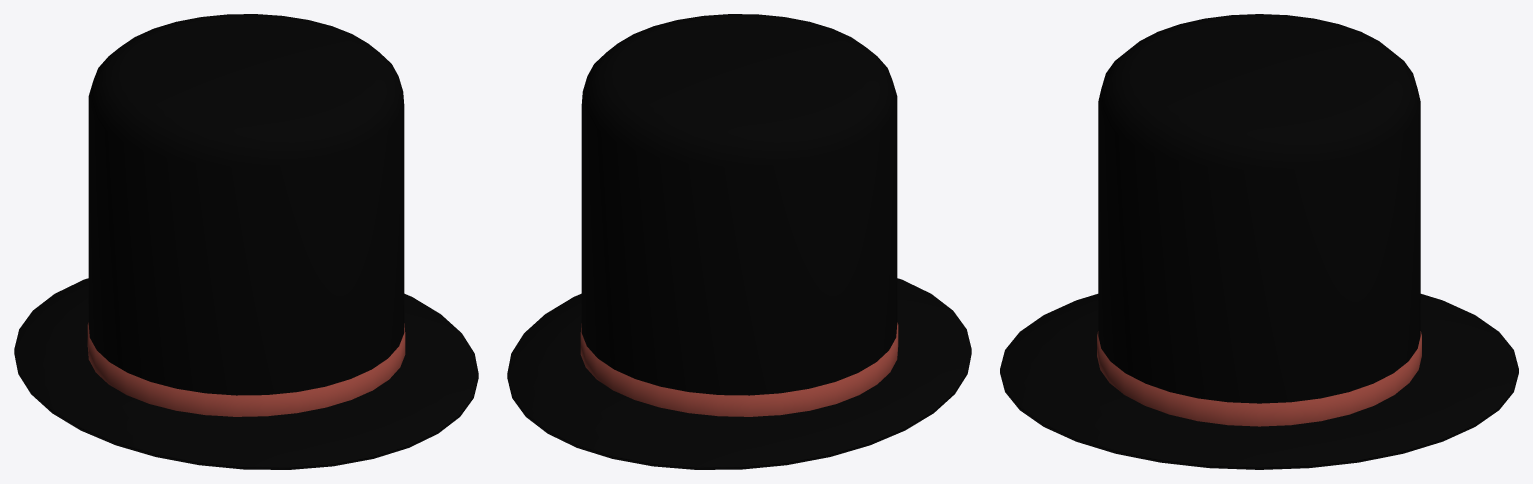
Rendered from TopHat.glb.
The picture shows the model from 3 angles, left to right: view 1: azimuth 30°, elevation 25°; view 2: azimuth 150°, elevation 25°; view 3: azimuth 270°, elevation 25°; orthographic projection. The views are drawn at different scales.
Parts seen in each view (by area): view 1: Cylinder, Cylinder.001, Cylinder.002; view 2: Cylinder, Cylinder.001, Cylinder.002; view 3: Cylinder, Cylinder.001, Cylinder.002.
Boxes of the visible parts, left/top/right/bottom form: Cylinder: left=88, top=14, right=404, bottom=395; Cylinder.001: left=14, top=278, right=478, bottom=469; Cylinder.002: left=87, top=322, right=405, bottom=416; Cylinder: left=581, top=14, right=897, bottom=395; Cylinder.001: left=507, top=278, right=971, bottom=469; Cylinder.002: left=580, top=322, right=898, bottom=416; Cylinder: left=1098, top=14, right=1420, bottom=403; Cylinder.001: left=1000, top=294, right=1518, bottom=469; Cylinder.002: left=1097, top=331, right=1421, bottom=426.
Size of the model in its own units: 2.84 by 2.07 by 3.22.
